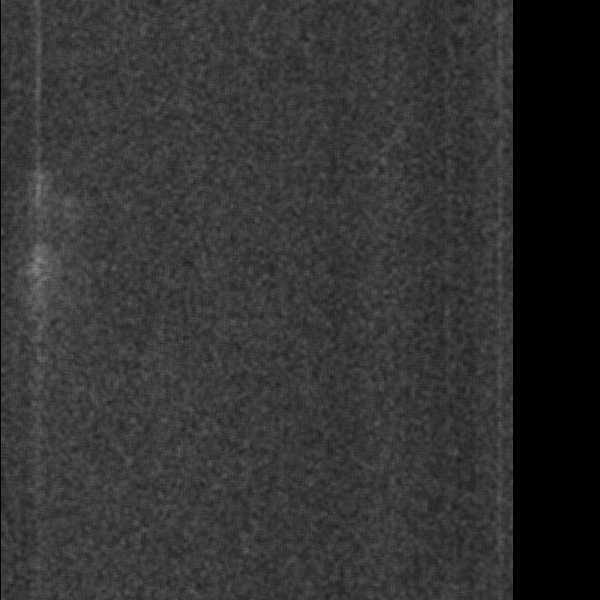spark: (24, 242, 52, 316), (23, 165, 48, 228)
